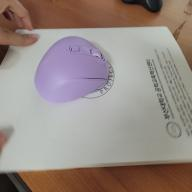mouse: (33, 34, 110, 106)
